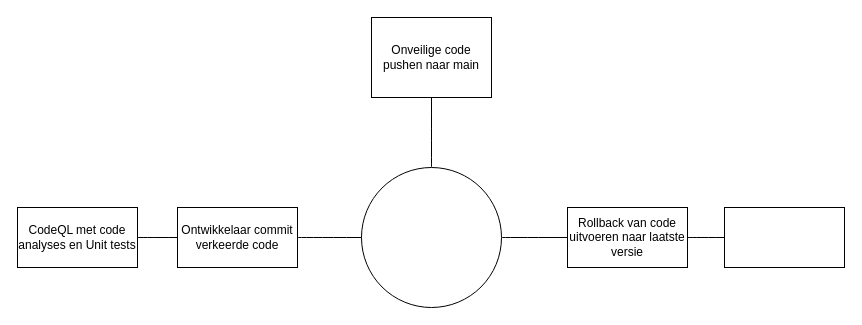
The diagram is 862 pixels wide and 325 high, and some of its shapes have lost their labels. The box of each missing label's shape, as (x1, y1, x2, y2) in pixels:
Code misbruikt door aanvaller: (724, 206, 844, 268)
Fouten in de veiligheid van de code: (360, 166, 502, 308)
